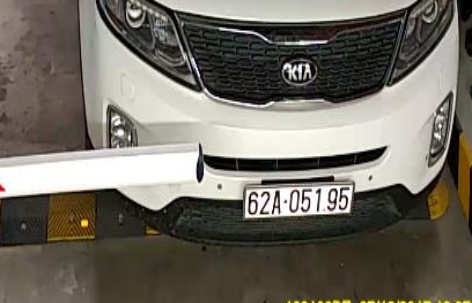plate: (230, 176, 365, 228)
